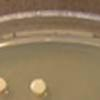white: (29, 78, 48, 96), (0, 77, 8, 93)
